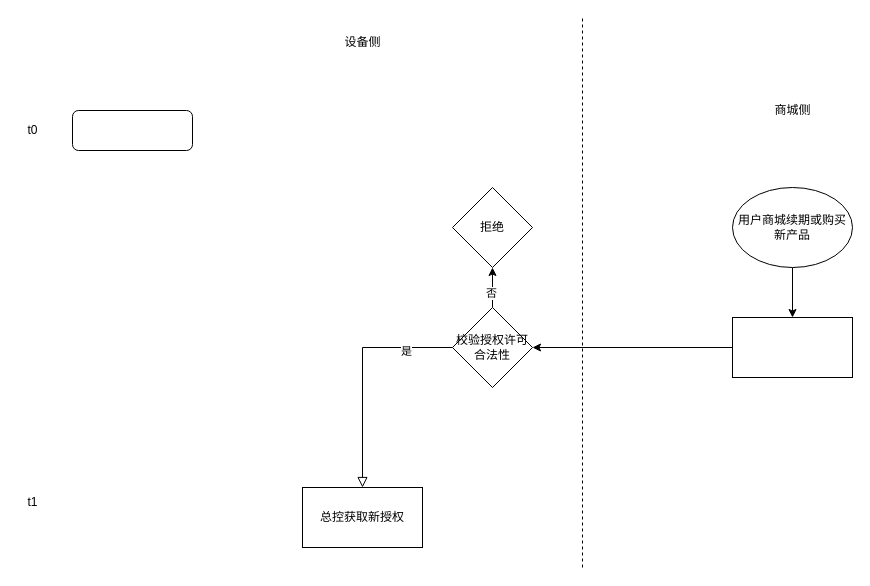
Some shapes in this 870 by 586 pixel diagram are drawn without their labels. The centre of each missing label's shape, as x and y in pixels:
导出新的授权许可文件: (792,347)
总控已获得授权许可: (132,130)
